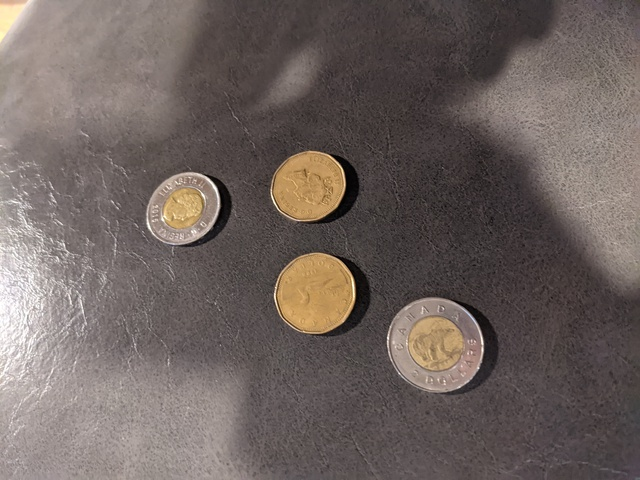loonie: (271, 243, 360, 335), (265, 143, 361, 221)
twonie: (384, 284, 487, 390), (144, 173, 228, 242)
